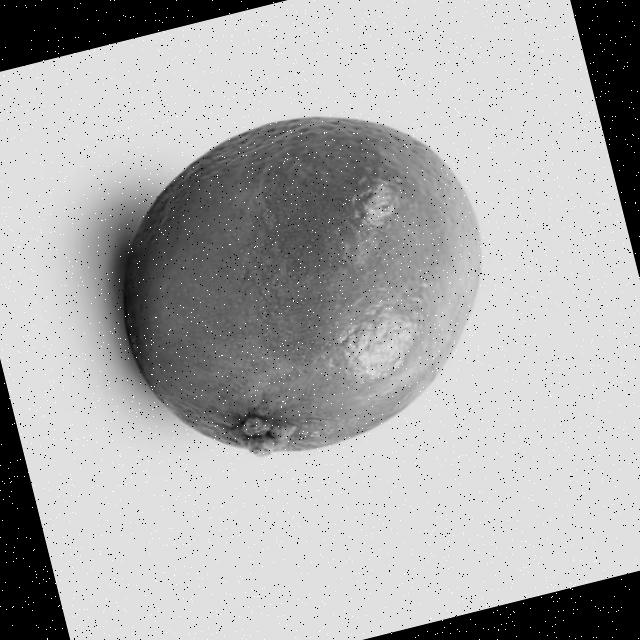Unripe: (83, 78, 526, 486)
